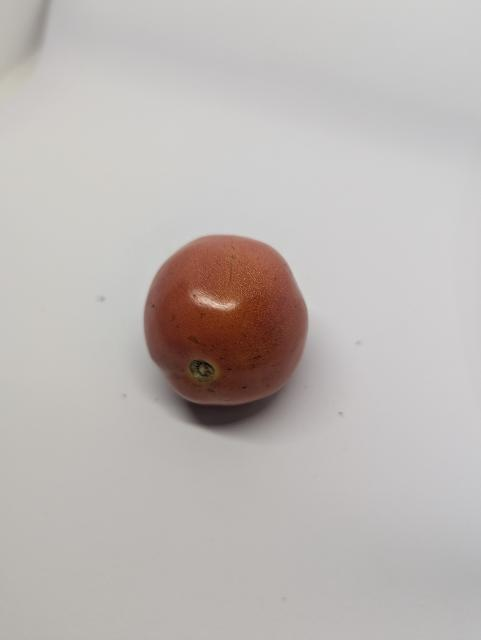red: (137, 230, 319, 424)
